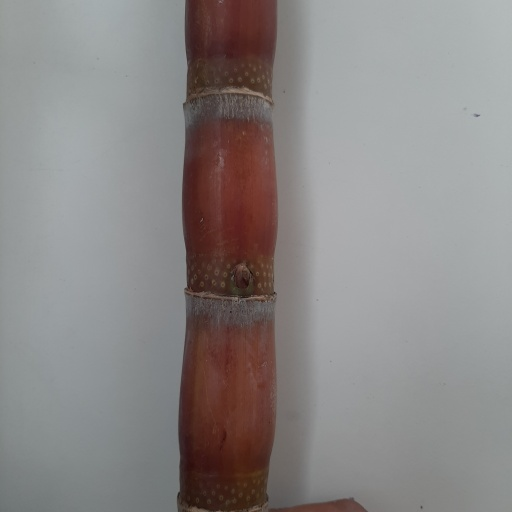Bud: (231, 262, 255, 294)
